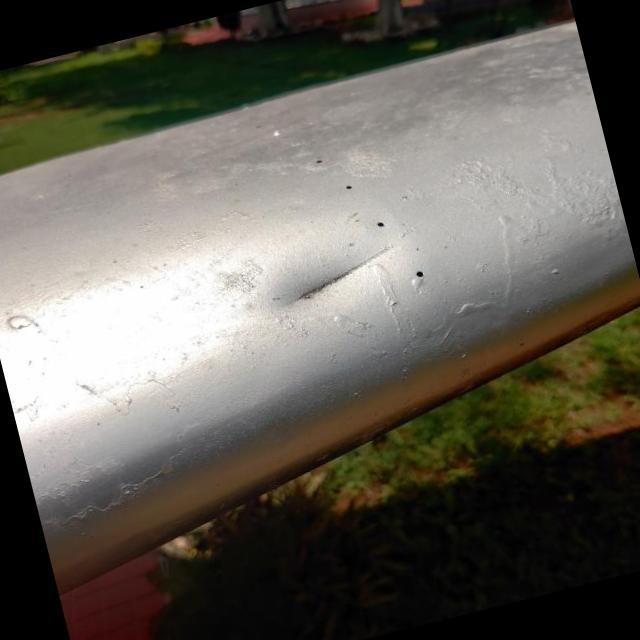Dent: (261, 210, 403, 332)
